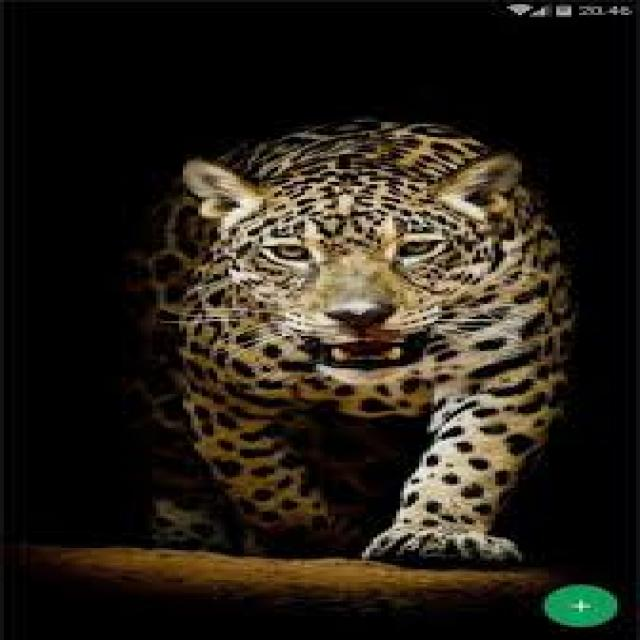Jaguar: (133, 118, 583, 572)
